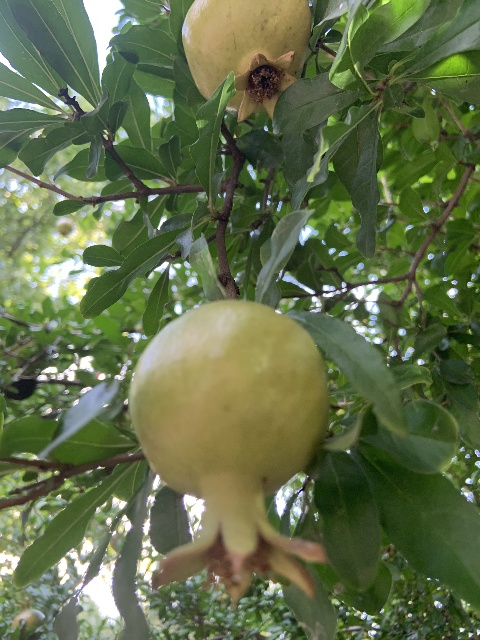mid-growth: (129, 297, 332, 609), (182, 0, 311, 123)
